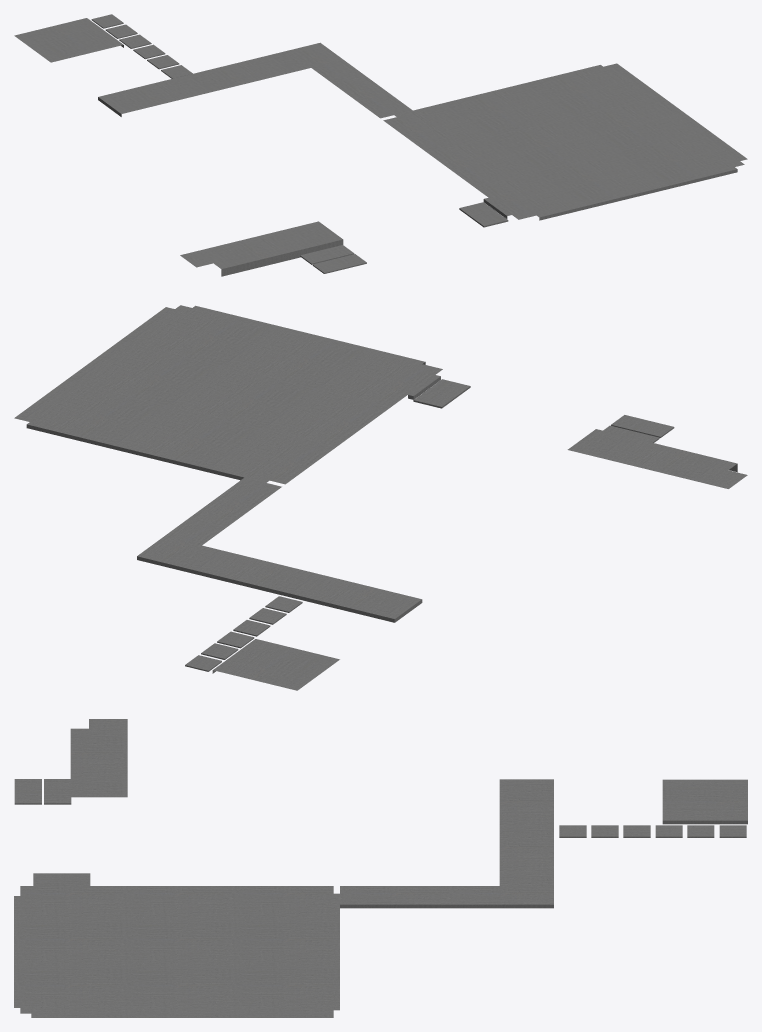
Rendered from arq_piso patio.FBX.
3 views of the same model, one above another, from view 1: azimuth 30°, elevation 25°; view 2: azimuth 150°, elevation 25°; view 3: azimuth 270°, elevation 25° (orthographic). The views are drawn at different scales.
Visible parts, largest first — view 1: arq_pisopatio; view 2: arq_pisopatio; view 3: arq_pisopatio.
Boxes of the visible parts, x1,y1,x2,y2 form: arq_pisopatio: [14, 14, 747, 276]; arq_pisopatio: [14, 305, 747, 690]; arq_pisopatio: [14, 719, 747, 1017].
Size of the model in its own units: 12.92 by 0.1773 by 13.51.
Materials: 1 (1 with a texture image).
